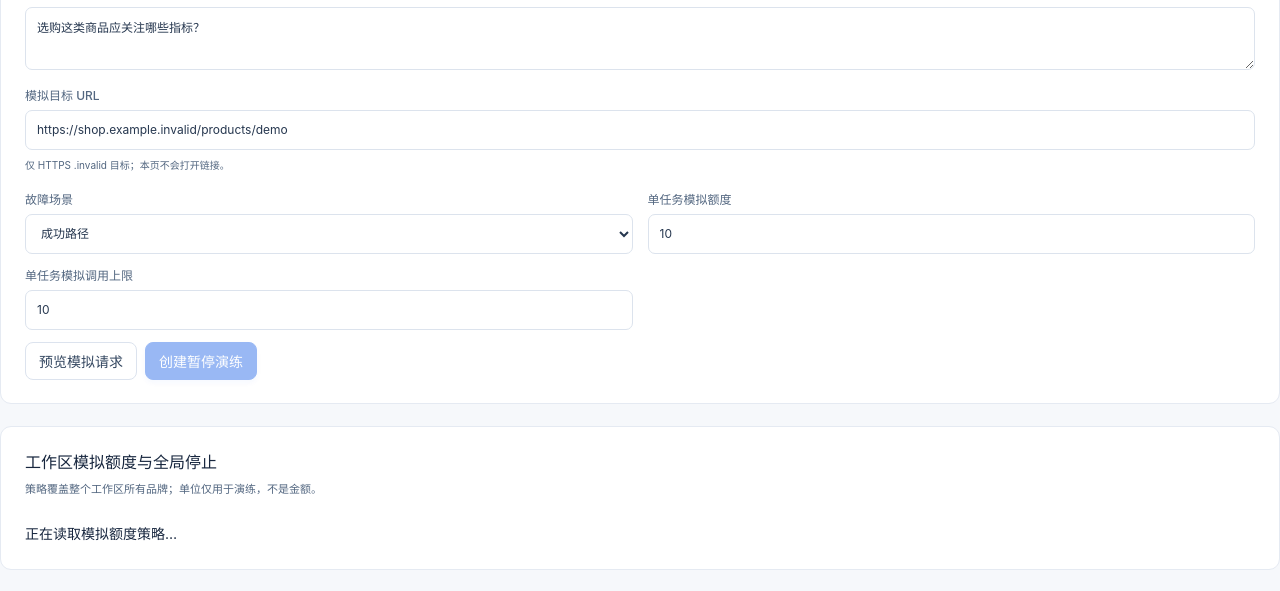
it: keeps natural discovery separate from informed request preview and clears old preview on edit
(page scrolled)
Click the button "预览模拟请求" at coordinates (81, 361), box [25,342,137,380]
(page scrolled)
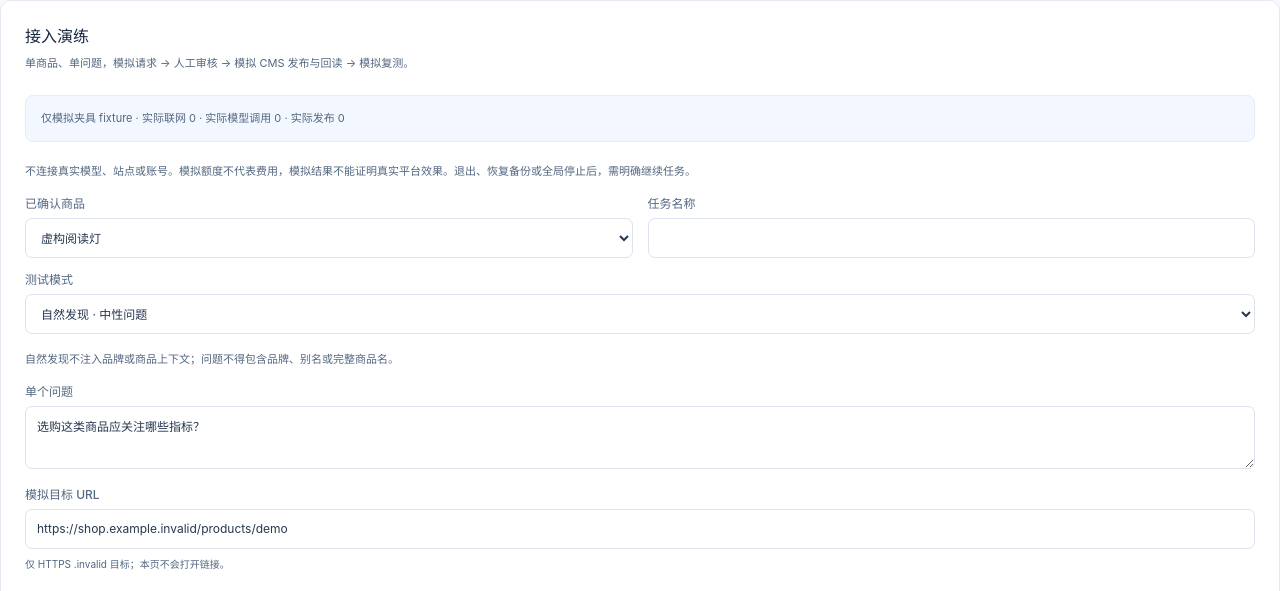
Select "已告知问答 · 公开商品上下文" in the dropdown labelled "测试模式" at coordinates (640, 314), box [25,294,1255,334]
(page scrolled)
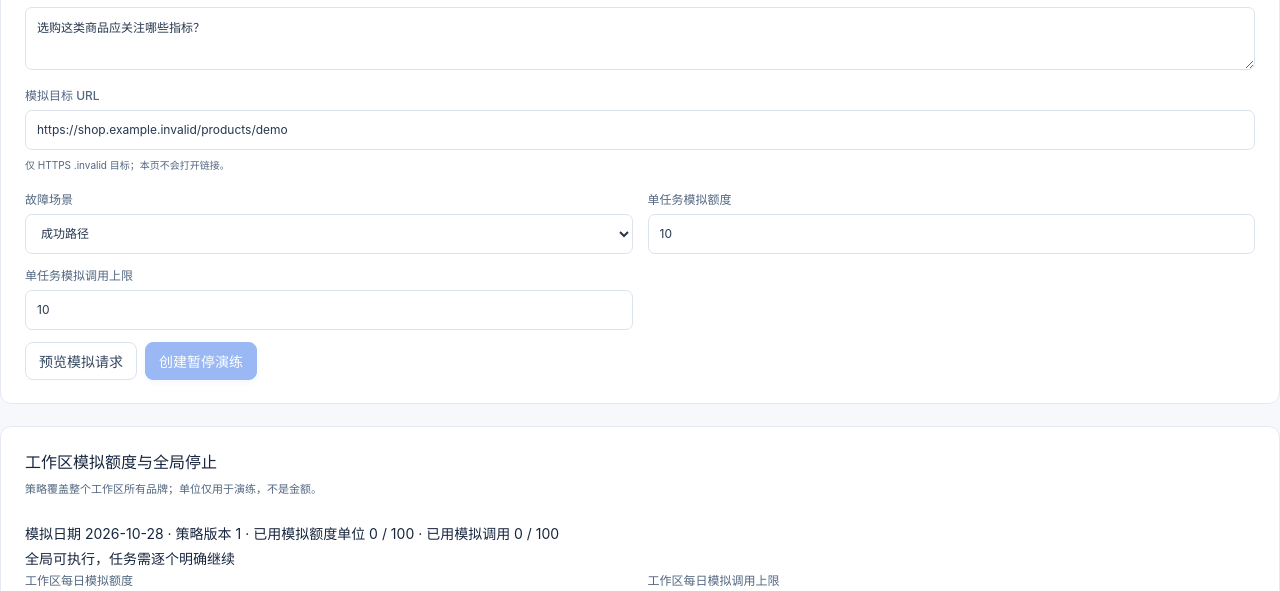
Click the button "预览模拟请求" at coordinates (81, 361), box [25,342,137,380]
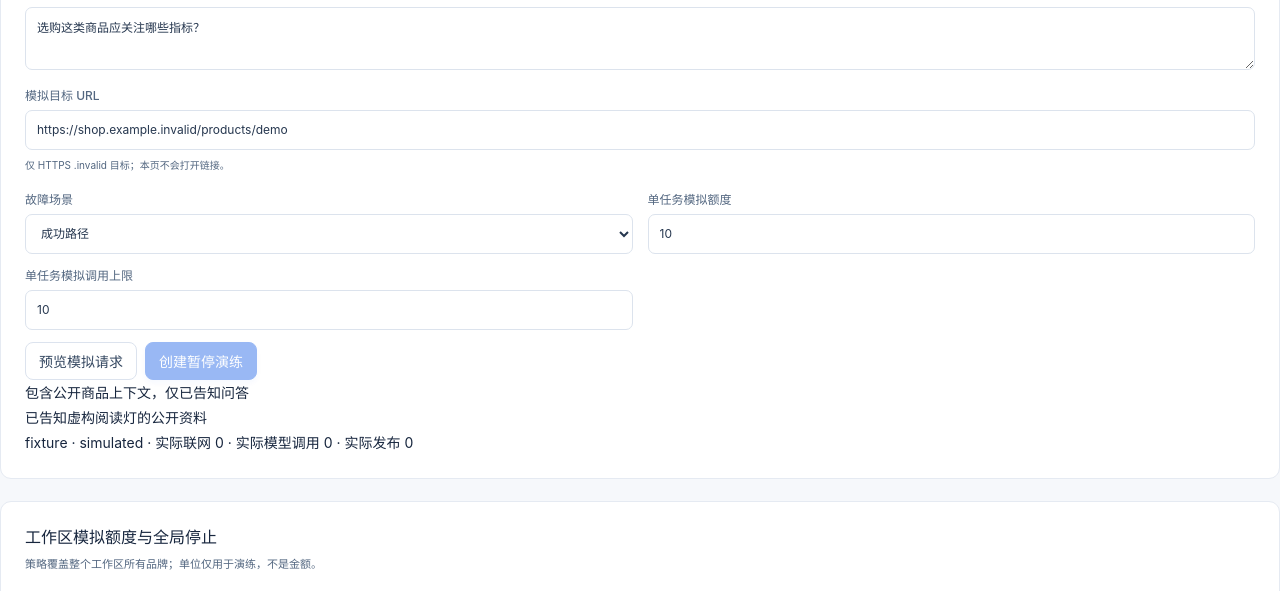
Expected: the text "已告知虚构阅读灯的公开资料" is shown, [25,409,207,426]
